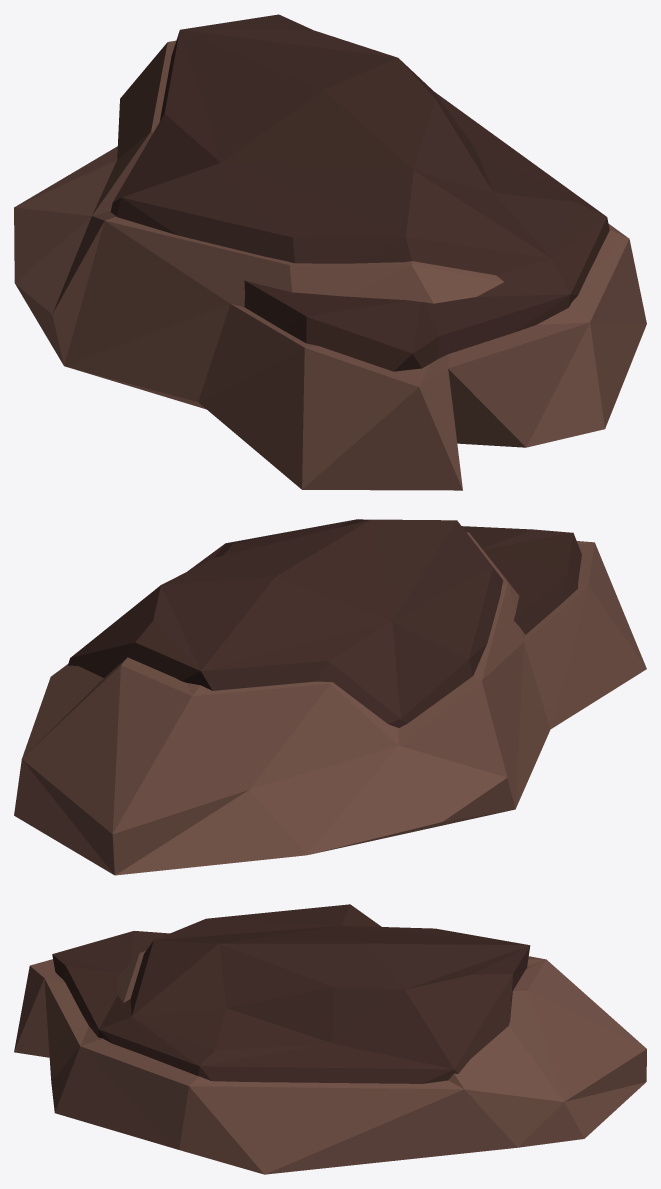
File: Brown_rock_003.fbx
3 views of the same model, one above another, from view 1: azimuth 30°, elevation 25°; view 2: azimuth 150°, elevation 25°; view 3: azimuth 270°, elevation 25° (orthographic). The views are drawn at different scales.
Parts seen in each view (by area): view 1: Brown_rock_003; view 2: Brown_rock_003; view 3: Brown_rock_003.
Part boxes in pixels (x1,y1,x2,y2): Brown_rock_003: (14,14,646,490); Brown_rock_003: (14,519,646,875); Brown_rock_003: (14,904,646,1174).
Size of the model in its own units: 491 by 735 by 192.
